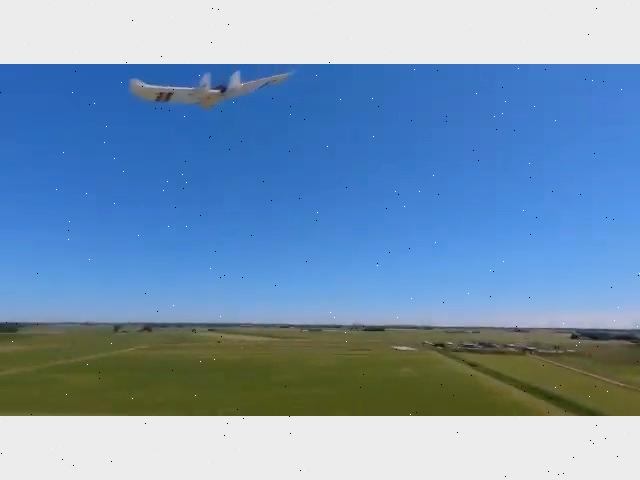Anti-Drone: (113, 64, 331, 124)
